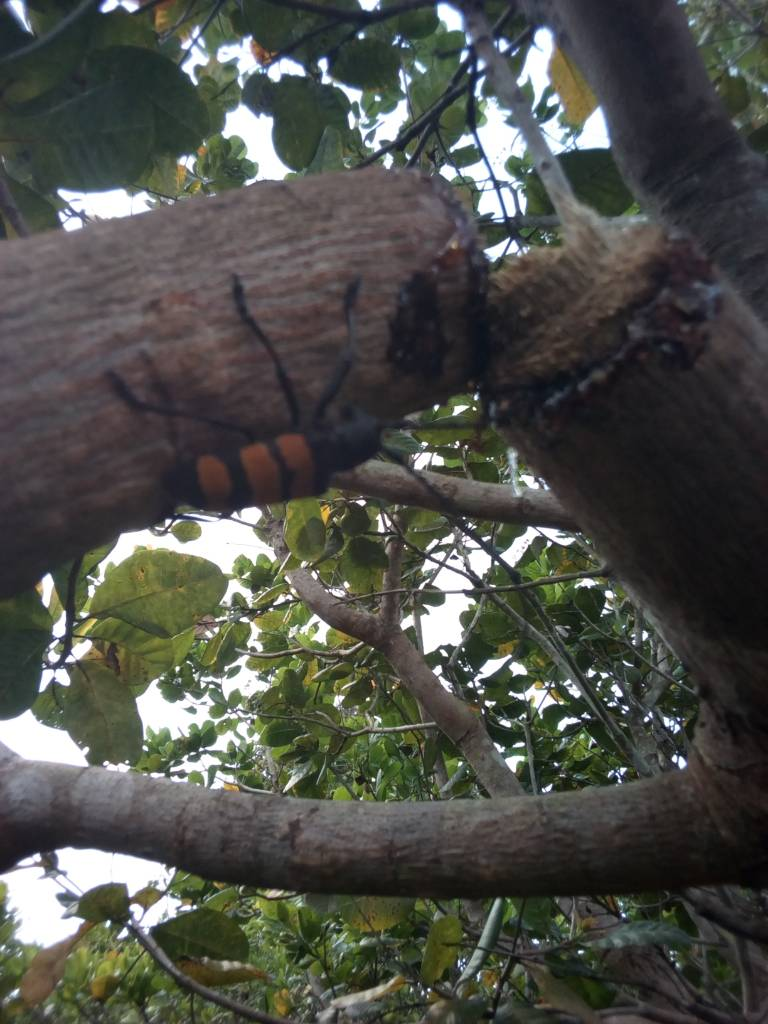Analepse trifasciata: (365, 132, 699, 483)
